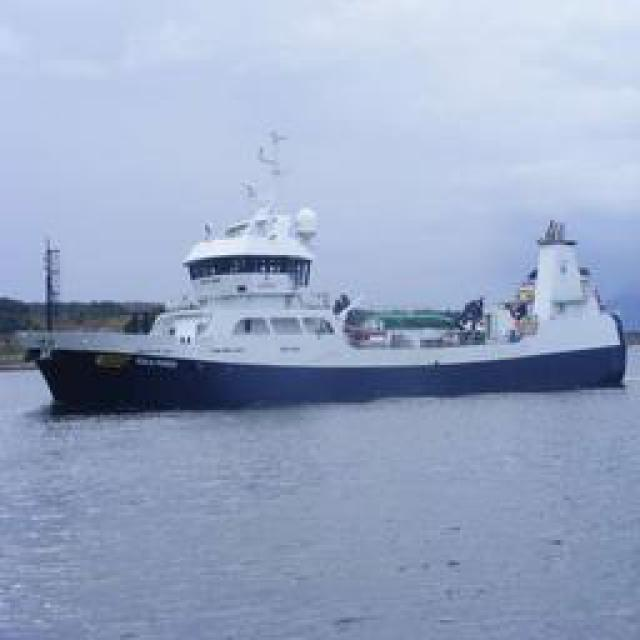Ship: (27, 151, 610, 406)
